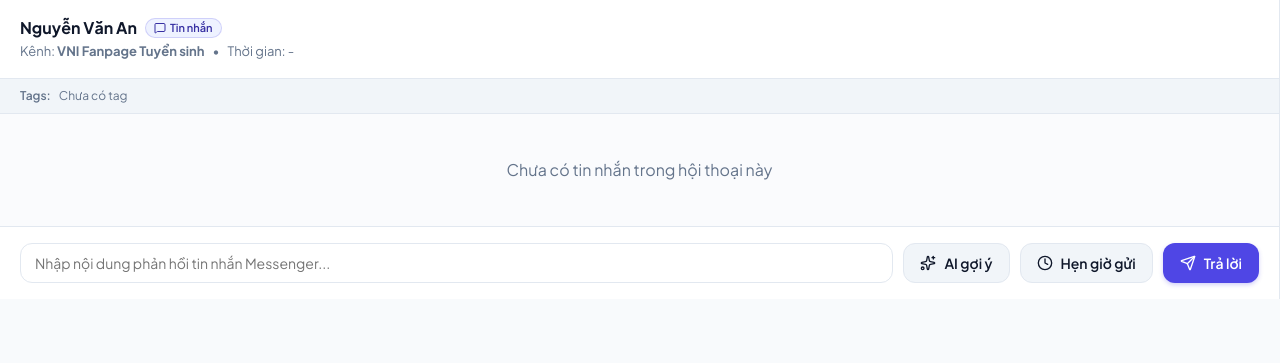
AC 523b968c-e303-4f88-92c2-f7df13146095 — CrmApp Inbox Safety & AI Suggest Reply › (f) AI suggest failure shows toast and preserves user typed content › shows toast error and preserves typed input when suggestReply rejects
The width and height of the screenshot is (1280, 363).
// User types some message
Type "Nội dung người dùng đang gõ dở dang" into the field with test id "reply-input" at (457, 262), box [20,242,893,282]
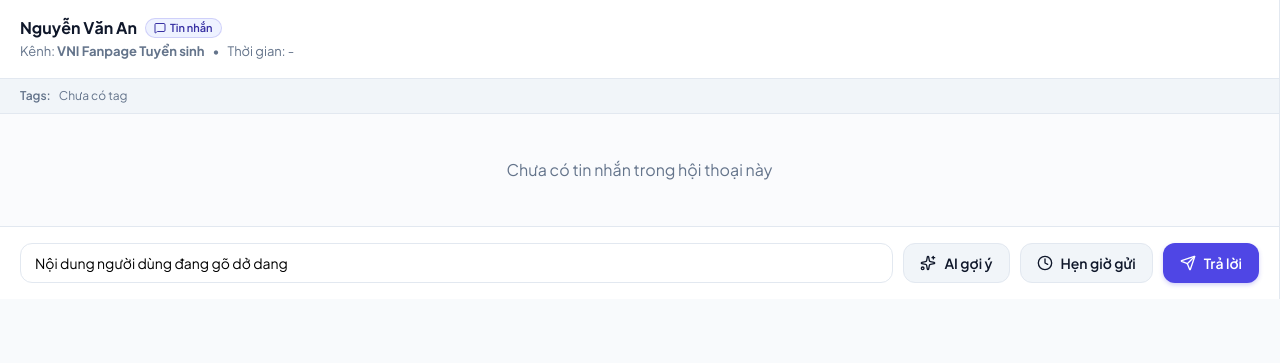
// Click AI suggest
Click the button with test id "btn-ai-suggest" at (956, 262), box [903,242,1010,282]
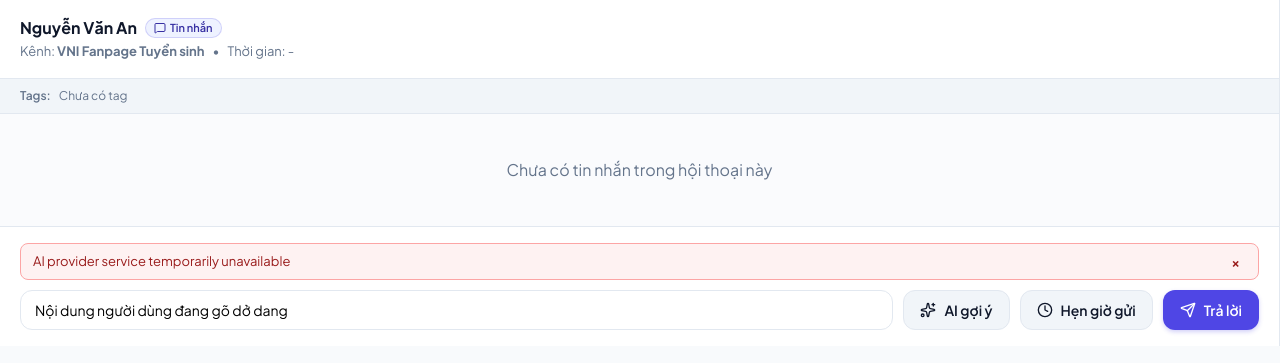
Result: the element with test id "ai-suggest-toast" is shown at [20,242,1259,280]
Result: the element with test id "ai-suggest-toast" shows "AI provider service temporarily unavailable" at [33,252,290,268]
